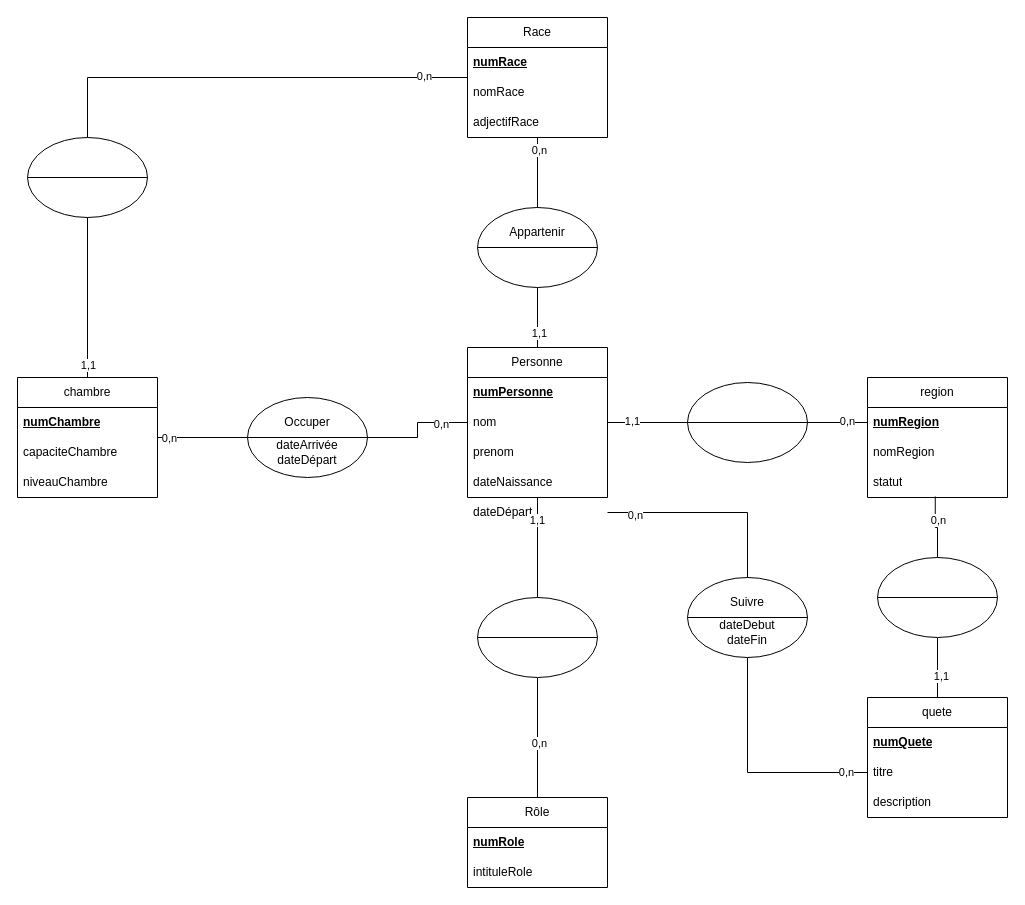
Some shapes in this 1025 by 905 pixel diagram are drawn without their labels. Here are the shapes that lost their labels. From the top down, the centre of each, then its label:
the point at 87,177: Caracteriser
the point at 747,422: Provenir de
the point at 937,597: Situer
the point at 537,637: S'approprier
